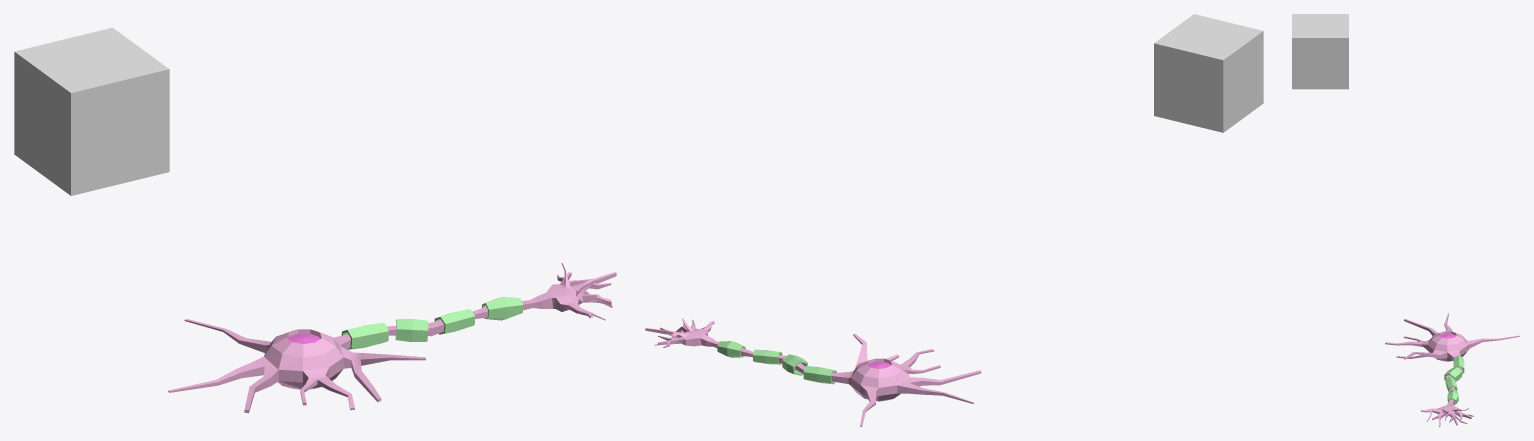
Rendered from neuron.dae.
3 views of the same model, side by side, from view 1: azimuth 30°, elevation 25°; view 2: azimuth 150°, elevation 25°; view 3: azimuth 270°, elevation 25° (orthographic). The views are drawn at different scales.
Visible parts, largest first — view 1: Cube, myelinSheaths_pTorus3; view 2: Cube, myelinSheaths_pTorus3; view 3: Cube, myelinSheaths_pTorus3.
Boxes of the visible parts, x1=… form: Cube: x1=14, y1=27, x2=169, y2=195; myelinSheaths_pTorus3: x1=168, y1=262, x2=616, y2=413; Cube: x1=1154, y1=14, x2=1263, y2=132; myelinSheaths_pTorus3: x1=645, y1=318, x2=981, y2=426; Cube: x1=1292, y1=14, x2=1348, y2=89; myelinSheaths_pTorus3: x1=1385, y1=313, x2=1519, y2=426.
Bounding box in the file's own units: 14.44 × 8.02 × 9.68.
